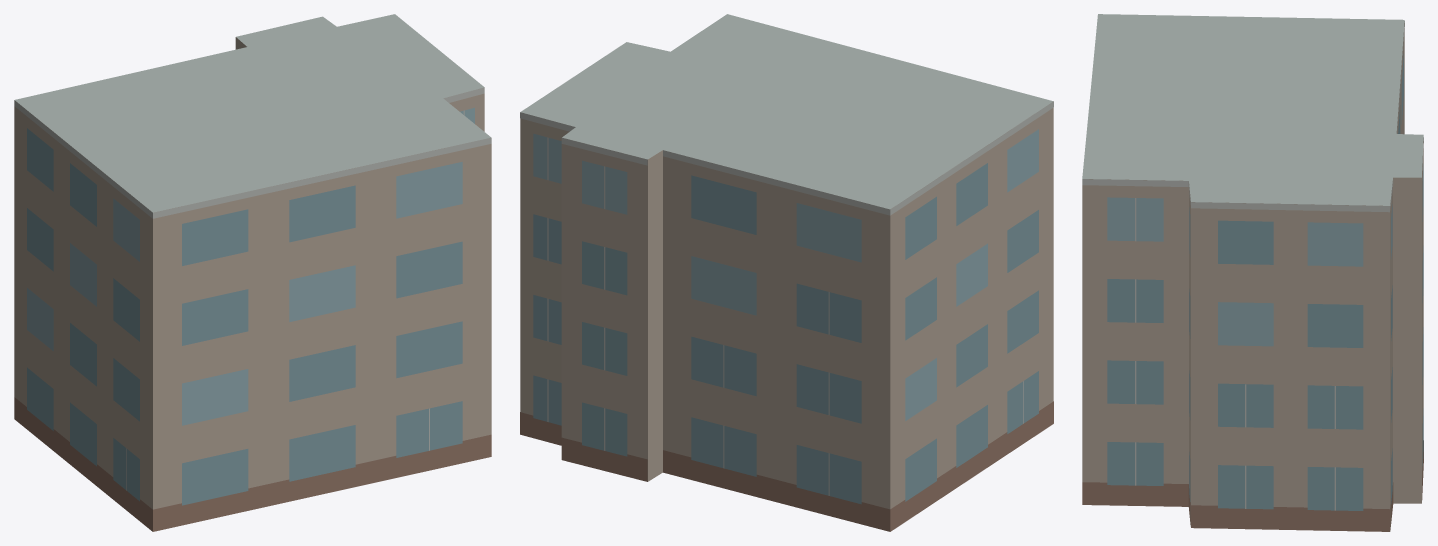
Rendered from survey-upis-32769876.glb.
3 renders of one model, left to right at view 1: azimuth 30°, elevation 25°; view 2: azimuth 150°, elevation 25°; view 3: azimuth 270°, elevation 25°, orthographic. The views are drawn at different scales.
Visible parts, largest first — view 1: survey-upis-32769876.tmp; view 2: survey-upis-32769876.tmp; view 3: survey-upis-32769876.tmp.
Part boxes in pixels (x1,y1,x2,y2): survey-upis-32769876.tmp: [14, 14, 491, 531]; survey-upis-32769876.tmp: [520, 14, 1053, 531]; survey-upis-32769876.tmp: [1082, 14, 1423, 531].
Size of the model in its own units: 16.05 by 12.7 by 12.07.
